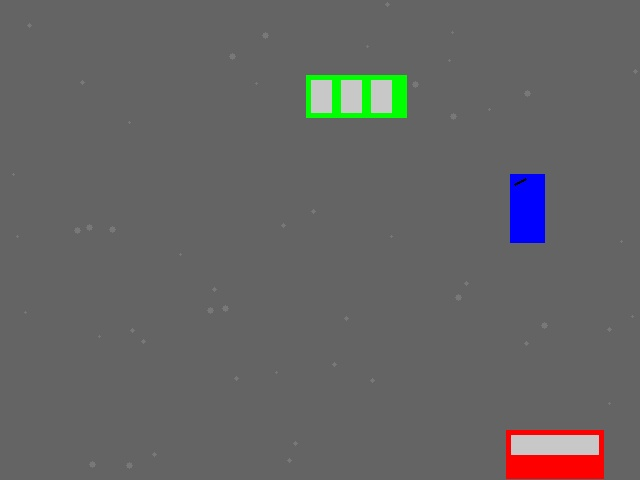bus: (306, 75, 406, 117)
car: (506, 430, 603, 478)
motorcycle: (510, 174, 544, 242)
